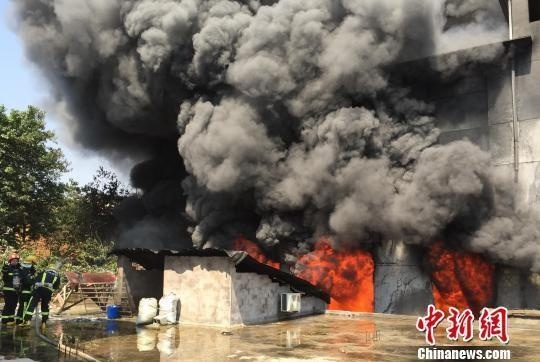fire: (297, 239, 375, 311), (427, 243, 497, 308), (239, 240, 282, 270)
